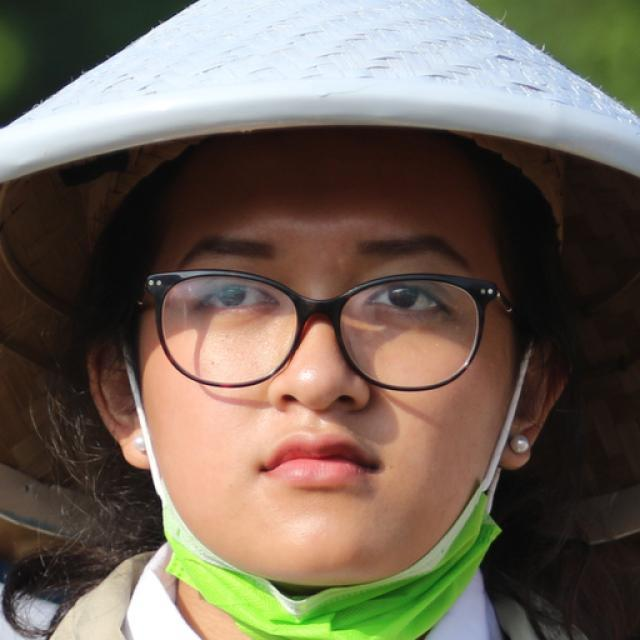neutral: (145, 138, 514, 580)
